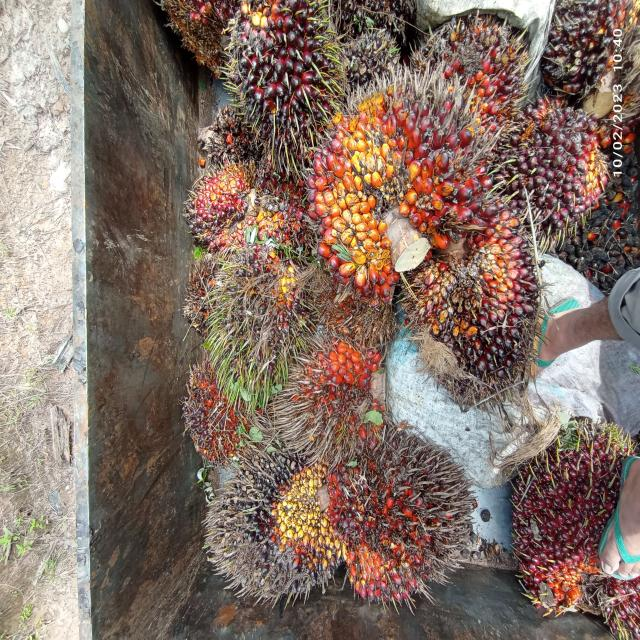fraksi 00: (412, 228, 562, 402), (182, 451, 336, 609), (205, 240, 330, 398)
fraksi 1: (501, 64, 624, 247), (216, 3, 364, 137)
fraksi 3: (302, 72, 511, 298), (520, 415, 640, 640)
fraksi 4: (336, 414, 480, 610), (277, 314, 410, 452)
